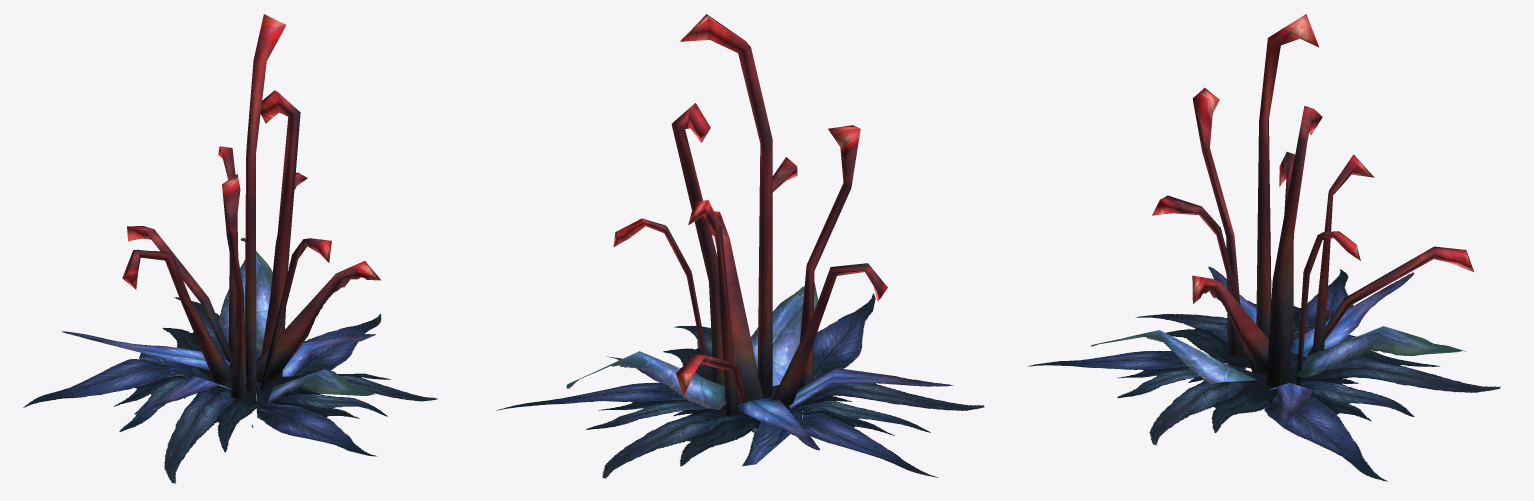
The model's file is DZMG_YHY_Cao.FBX.
3 renders of one model, left to right at view 1: azimuth 30°, elevation 25°; view 2: azimuth 150°, elevation 25°; view 3: azimuth 270°, elevation 25°, orthographic. The views are drawn at different scales.
Visible parts, largest first — view 1: DZMG_YHY_Cao; view 2: DZMG_YHY_Cao; view 3: DZMG_YHY_Cao.
Boxes of the visible parts, x1,y1,x2,y2 form: DZMG_YHY_Cao: (23,14,437,483); DZMG_YHY_Cao: (496,14,984,478); DZMG_YHY_Cao: (1027,14,1500,481).
Size of the model in its own units: 227 by 208 by 235.
